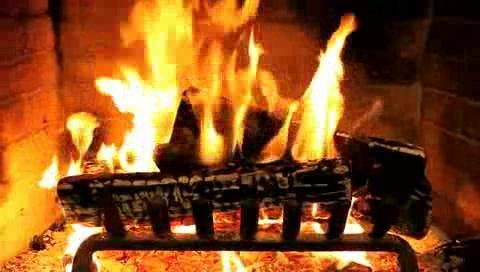fire: (108, 0, 338, 171)
